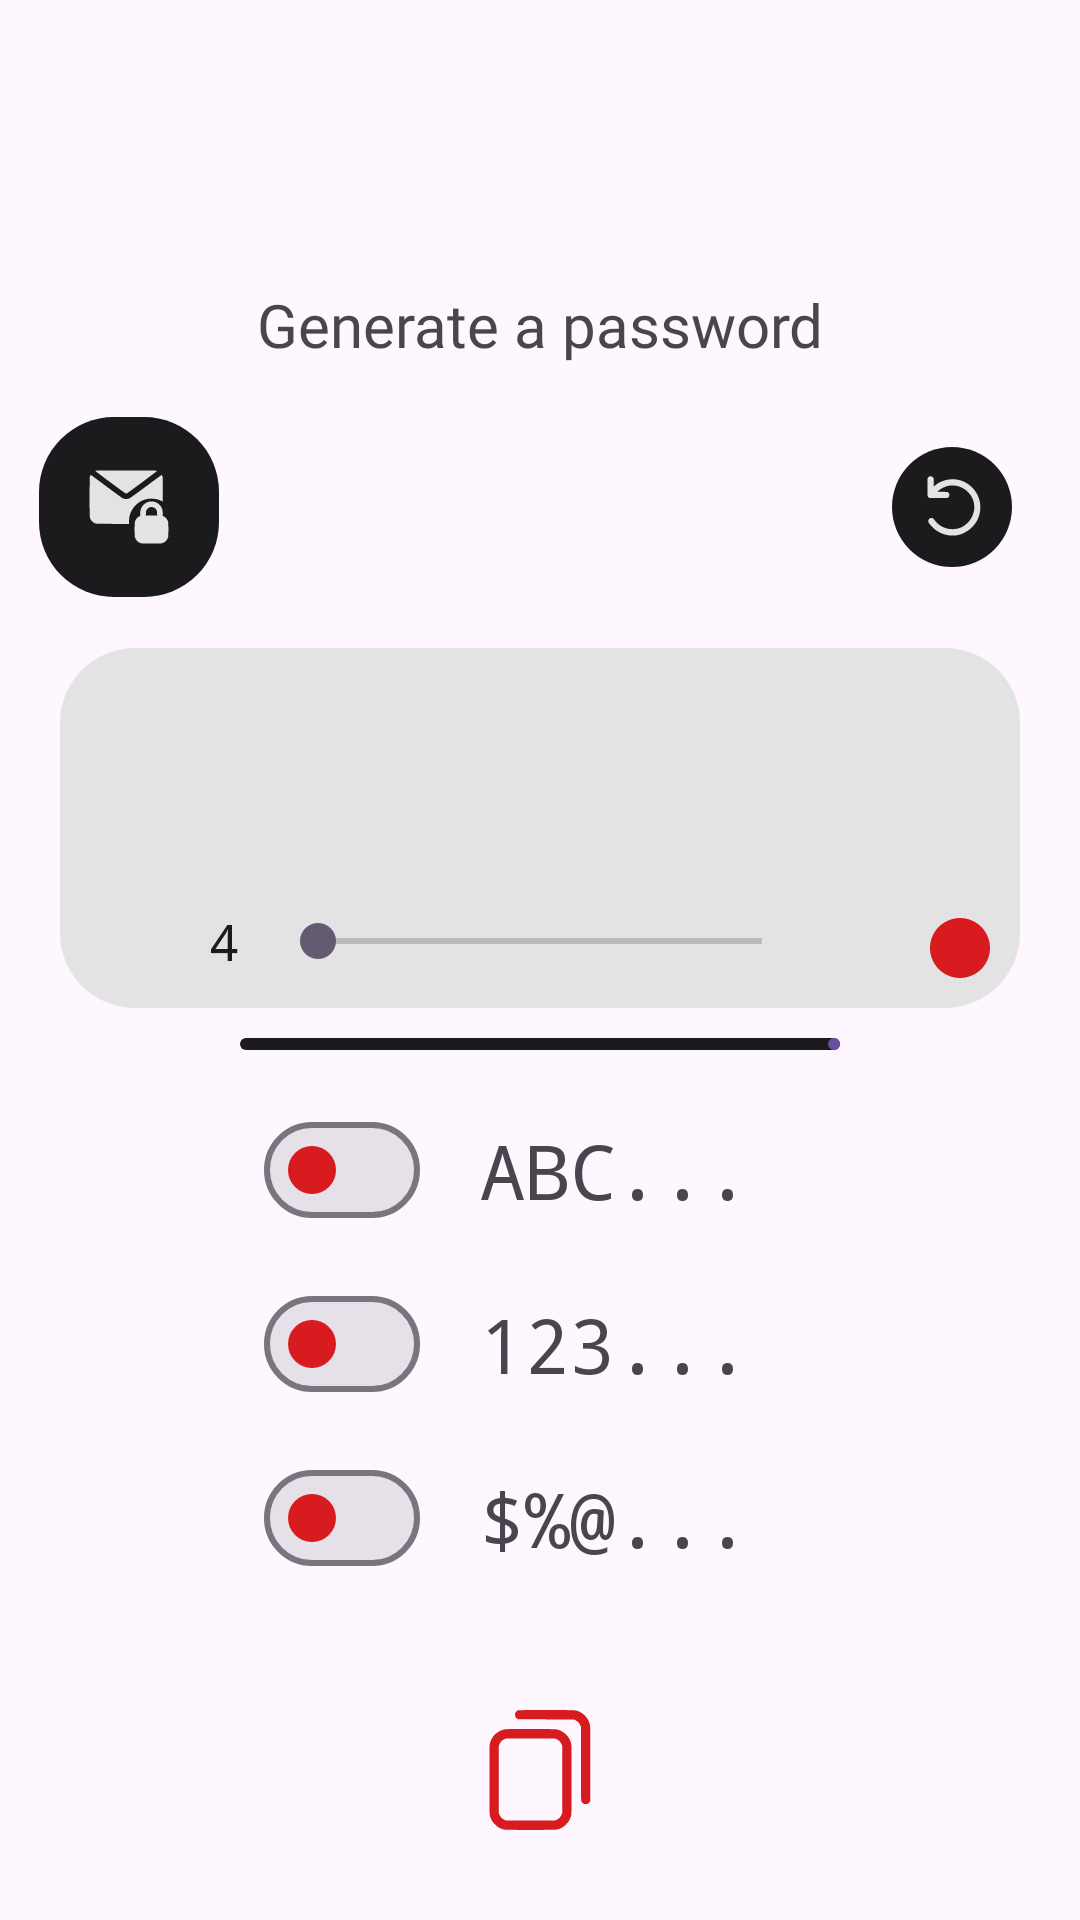

Where icons sit on this 1080px×1920px app screen, as (x1, y1, x2, y2):
mail generator: (89, 470, 169, 544)
reset: (927, 476, 981, 536)
